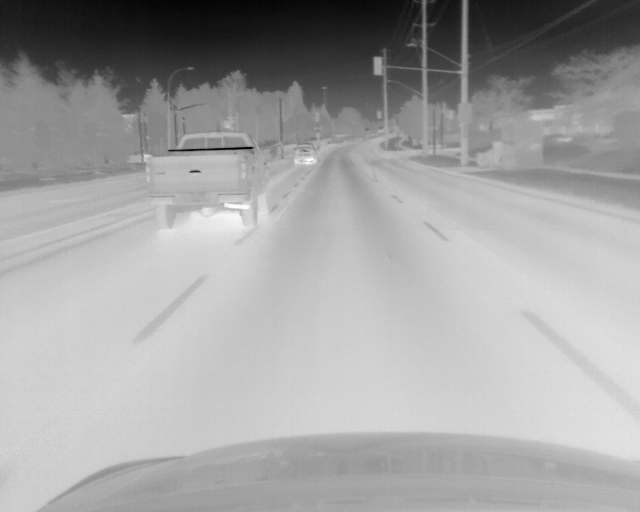car: (145, 131, 270, 228), (292, 141, 317, 167)
